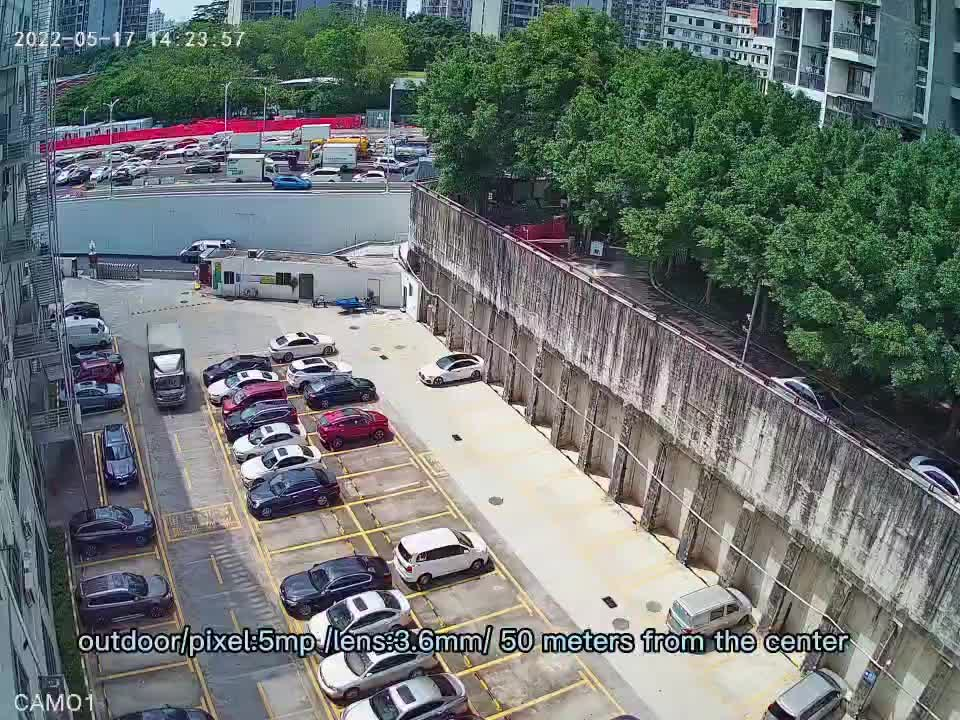Car: (316, 629, 439, 703), (279, 554, 393, 619), (304, 589, 411, 655), (341, 673, 467, 720), (393, 528, 491, 587), (76, 571, 173, 629), (246, 468, 340, 519), (666, 585, 753, 637), (69, 505, 156, 557), (762, 669, 849, 720), (771, 376, 851, 428), (146, 323, 188, 410), (240, 444, 324, 487), (316, 407, 391, 451), (224, 400, 299, 442), (232, 423, 309, 462), (207, 369, 279, 406), (304, 375, 377, 409), (908, 455, 960, 502), (101, 424, 138, 489), (285, 357, 352, 391), (202, 353, 271, 386), (419, 352, 484, 387), (222, 382, 287, 417), (269, 331, 336, 362), (75, 380, 125, 413), (113, 704, 215, 720), (57, 318, 112, 346), (226, 154, 280, 182), (212, 137, 309, 152), (309, 143, 360, 171), (310, 138, 371, 158), (179, 239, 232, 262), (74, 359, 121, 384), (400, 157, 440, 182), (70, 350, 124, 368), (290, 124, 331, 143), (383, 144, 427, 161), (64, 300, 100, 318), (301, 167, 343, 182), (392, 138, 430, 154), (271, 175, 312, 189), (373, 157, 407, 172), (184, 160, 221, 173), (434, 710, 482, 720), (56, 164, 79, 184), (156, 151, 187, 165), (352, 170, 388, 182), (208, 132, 233, 149), (231, 133, 260, 147), (110, 168, 131, 185), (203, 151, 236, 161), (69, 170, 92, 184), (177, 144, 202, 156), (75, 149, 102, 160), (141, 139, 168, 150), (111, 167, 140, 177), (90, 166, 108, 182), (121, 157, 154, 165), (105, 151, 129, 162), (121, 164, 148, 173), (175, 138, 199, 148), (56, 157, 75, 169), (137, 149, 159, 159), (112, 144, 135, 153), (608, 714, 642, 720), (262, 138, 291, 145), (266, 152, 289, 160), (56, 315, 86, 321), (375, 135, 396, 143), (368, 143, 376, 154), (56, 167, 62, 178)
